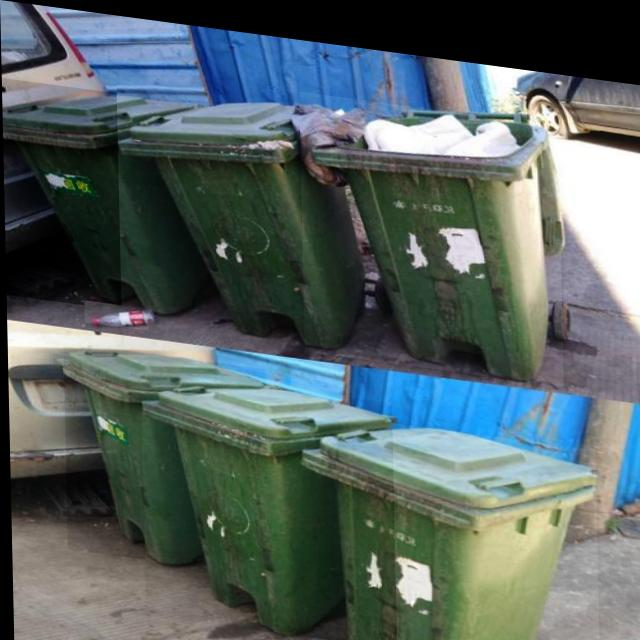garbage: (83, 299, 147, 327)
garbage_bin: (302, 403, 599, 640), (139, 366, 394, 639), (116, 78, 361, 345), (1, 78, 202, 316), (62, 341, 268, 569)
overflow: (299, 83, 562, 371)
